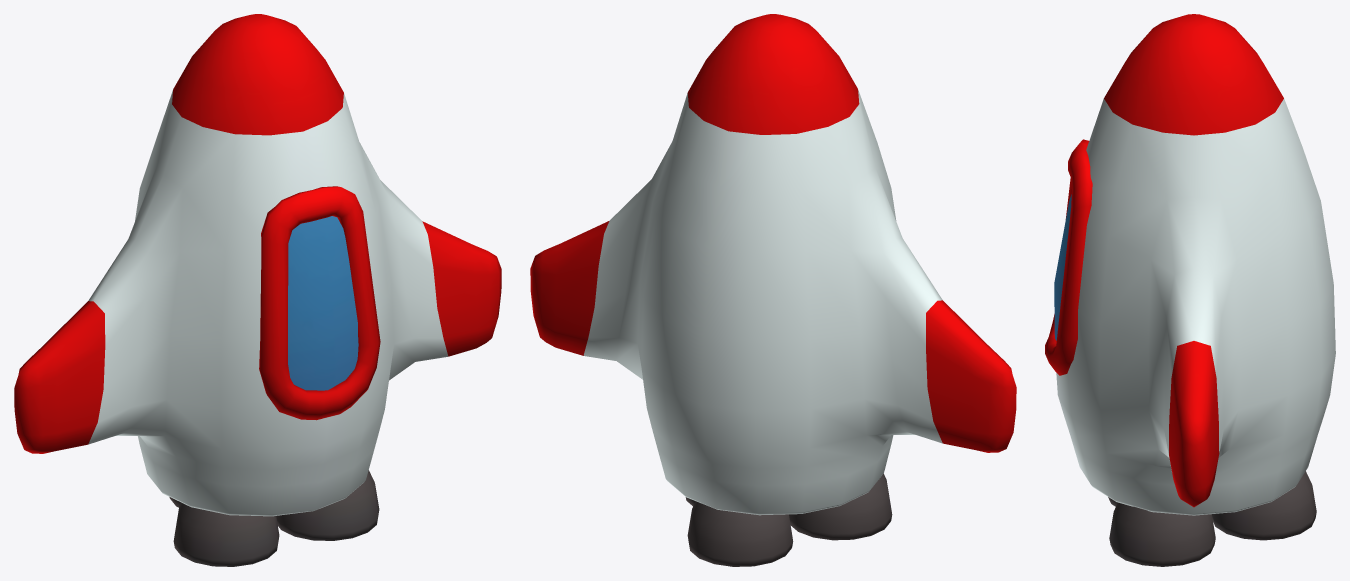
The model's file is Rocket_3.fbx.
3 renders of one model, left to right at view 1: azimuth 30°, elevation 25°; view 2: azimuth 150°, elevation 25°; view 3: azimuth 270°, elevation 25°, orthographic.
Parts seen in each view (by area): view 1: Rocket_3; view 2: Rocket_3; view 3: Rocket_3.
Part boxes in pixels (x1,y1,x2,y2): Rocket_3: (14,14,501,566); Rocket_3: (530,14,1016,566); Rocket_3: (1045,14,1335,566).
Bounding box in the file's own units: 1.42 × 1.39 × 0.7371.
